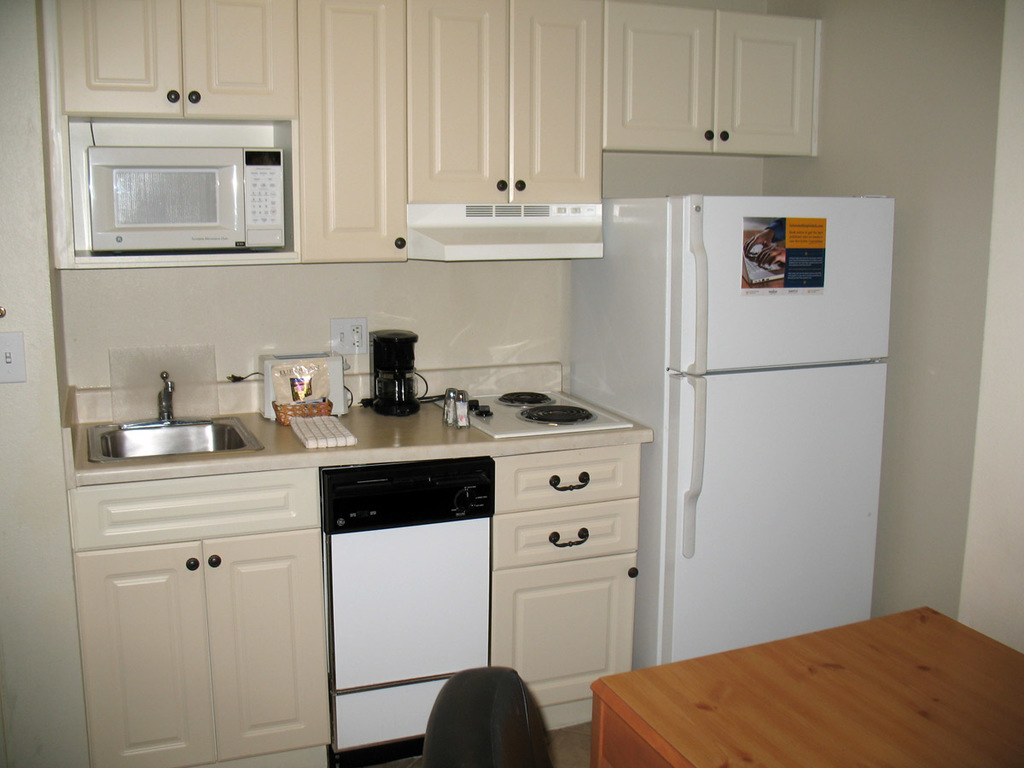cabinet door: (83, 559, 214, 752), (306, 12, 406, 258), (202, 546, 327, 741), (410, 16, 509, 196), (513, 16, 605, 196), (502, 572, 631, 682), (605, 25, 714, 146), (182, 9, 301, 118), (60, 2, 178, 111), (718, 31, 817, 155), (506, 461, 639, 498), (505, 519, 634, 557)
handle: (681, 389, 706, 554), (687, 207, 711, 365), (557, 467, 593, 502), (551, 529, 586, 553), (183, 554, 203, 578), (488, 176, 508, 197), (511, 176, 530, 196), (390, 233, 407, 253), (169, 91, 183, 112), (187, 86, 204, 103), (627, 562, 639, 585), (210, 551, 222, 572), (719, 123, 731, 143), (703, 123, 713, 143)
refrigerator door: (674, 382, 877, 624), (686, 201, 887, 361)
